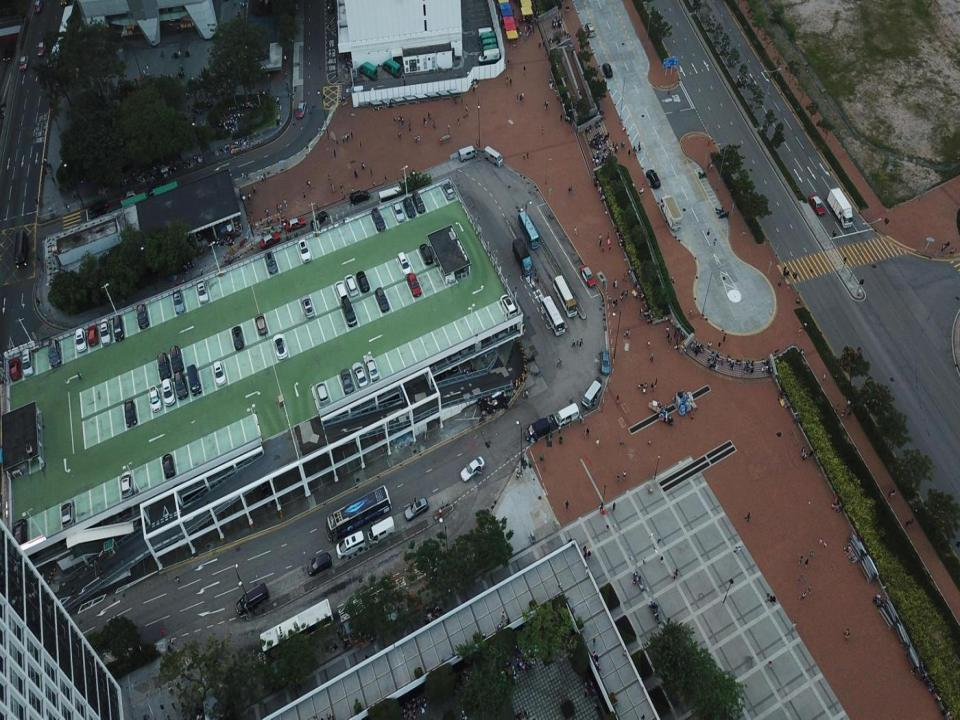bus: (259, 598, 337, 660), (325, 483, 391, 541), (554, 275, 578, 317), (541, 296, 565, 335), (518, 211, 540, 249), (48, 38, 64, 82), (379, 186, 410, 206), (59, 5, 74, 34)
car: (460, 456, 485, 482), (404, 498, 428, 523), (259, 473, 273, 507), (12, 518, 28, 546), (272, 333, 288, 360), (342, 299, 358, 326), (259, 230, 280, 250), (499, 293, 516, 317), (352, 362, 368, 387), (406, 272, 422, 297), (148, 386, 162, 414), (363, 354, 378, 380), (124, 399, 137, 428), (808, 194, 825, 216), (580, 264, 596, 287), (99, 319, 112, 347), (340, 367, 353, 395), (61, 500, 75, 525), (372, 207, 386, 232), (213, 360, 226, 386), (88, 200, 109, 216), (300, 293, 314, 317), (355, 270, 370, 292), (136, 304, 149, 329), (316, 381, 329, 406), (376, 287, 389, 312), (344, 275, 358, 298), (74, 328, 87, 352), (162, 454, 175, 478), (298, 240, 311, 264), (310, 211, 328, 228), (645, 170, 661, 189), (232, 325, 244, 350), (286, 217, 306, 232), (398, 251, 410, 276), (265, 251, 277, 275), (119, 189, 141, 202), (412, 191, 424, 214), (197, 279, 208, 304), (173, 289, 184, 314), (121, 471, 132, 496), (335, 280, 347, 302), (393, 200, 404, 224), (255, 314, 268, 334), (420, 243, 432, 264), (87, 325, 98, 347), (9, 358, 20, 380), (119, 495, 130, 517), (445, 263, 456, 285), (146, 182, 163, 196), (601, 349, 610, 375), (404, 197, 415, 218), (442, 182, 454, 201), (176, 528, 187, 548), (296, 100, 306, 119), (495, 320, 505, 339), (58, 530, 69, 546), (602, 62, 613, 78), (29, 544, 38, 562), (450, 343, 459, 361), (460, 337, 468, 356), (130, 512, 138, 529), (2, 47, 11, 62), (585, 23, 595, 36), (20, 54, 28, 70), (37, 41, 45, 56), (427, 355, 434, 370), (34, 0, 42, 13), (450, 359, 457, 373), (438, 366, 446, 378), (0, 104, 6, 117), (60, 0, 66, 5)
truck: (827, 187, 853, 228), (660, 196, 683, 231), (513, 237, 532, 276)
van: (236, 583, 270, 615), (523, 415, 556, 442), (335, 530, 365, 558), (367, 516, 396, 544), (581, 380, 602, 410), (554, 402, 580, 426), (307, 552, 332, 576), (14, 232, 28, 268), (187, 364, 202, 396), (160, 378, 176, 405), (484, 146, 503, 168), (169, 345, 184, 372), (457, 144, 477, 164), (174, 372, 188, 399), (21, 349, 34, 378), (382, 58, 400, 78), (348, 189, 370, 205), (479, 48, 501, 64), (359, 62, 377, 81), (158, 353, 171, 378), (113, 314, 124, 342), (49, 341, 61, 366), (478, 26, 495, 38), (480, 32, 496, 44), (479, 45, 498, 54), (480, 38, 496, 48), (326, 1, 334, 14)
